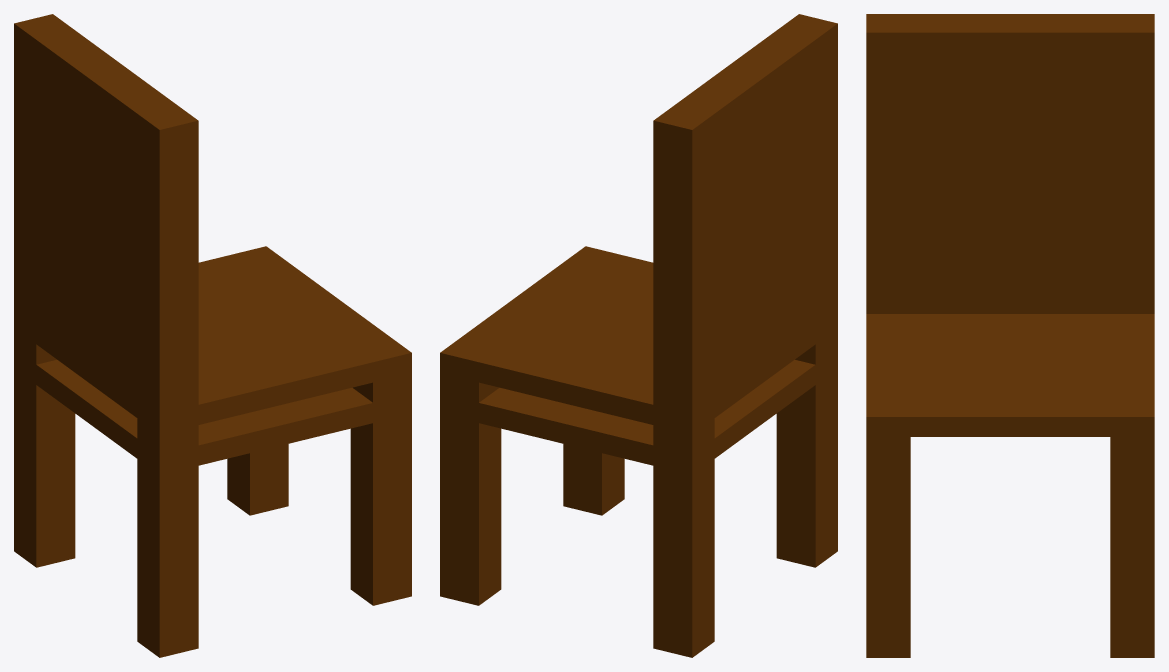
Rendered from chair.obj.
3 views of the same model, side by side, from view 1: azimuth 30°, elevation 25°; view 2: azimuth 150°, elevation 25°; view 3: azimuth 270°, elevation 25° (orthographic).
Bounding box in the file's own units: 13 × 26 × 13.
1 material, 1 textured.
